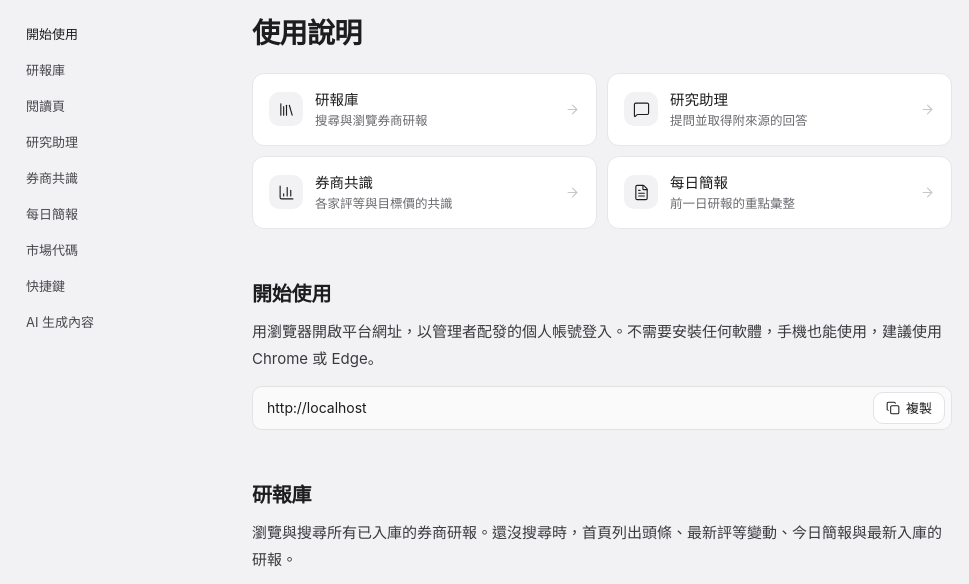
Test case: 平台網址取目前站台，複製後按鈕換成已複製
This screenshot has width=969, height=584.
Expected: the field named "平台網址" holds "http://localhost", [267,386,865,428]
Step 1. Click the button "複製" → coordinates (909, 408), box [873,392,945,424]
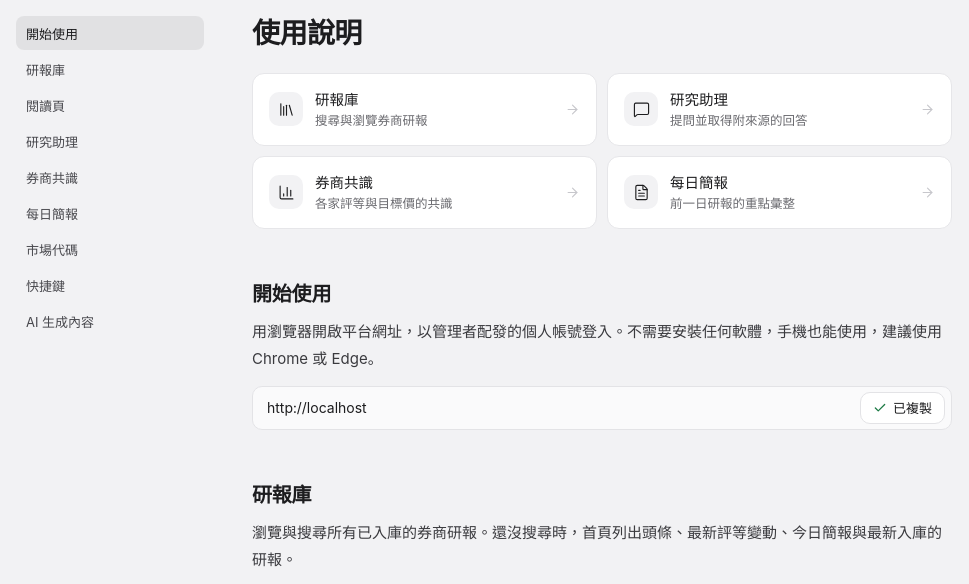
Expected: the button "已複製" is shown, [860,392,945,424]
